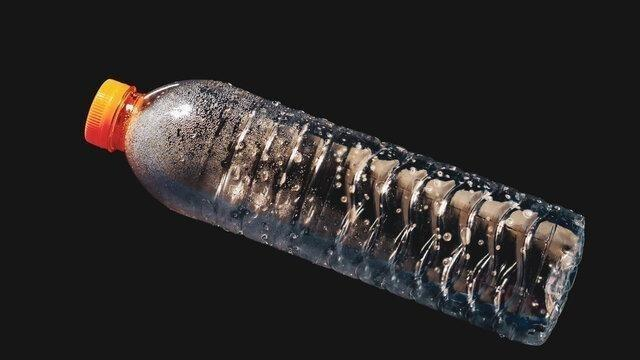bottle-plastic: (82, 73, 589, 348)
